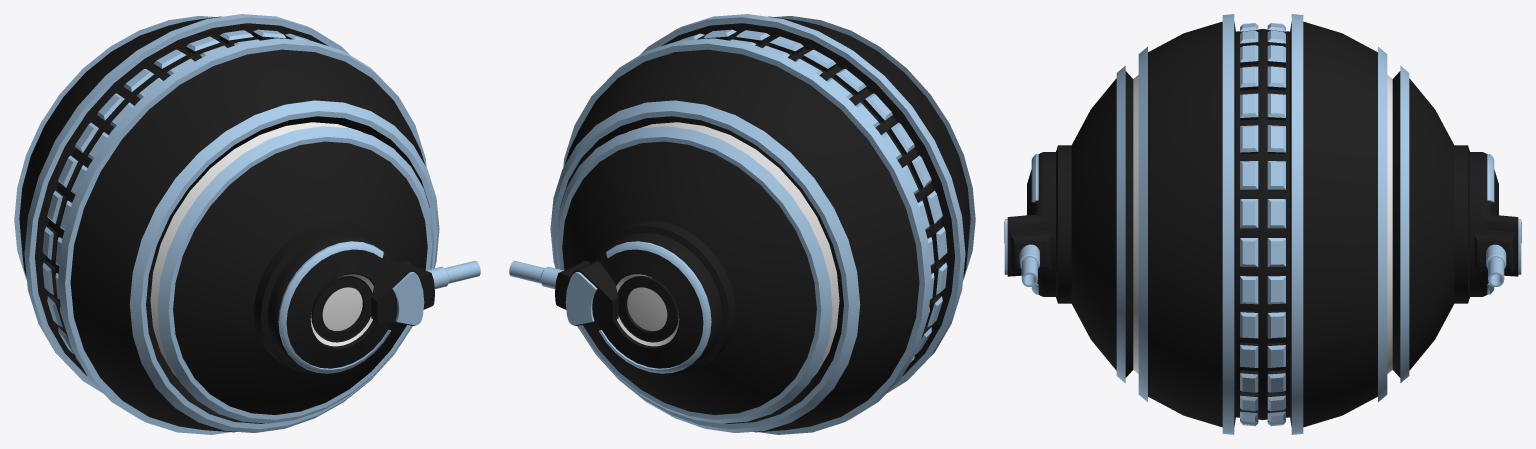
Rendered from enemy_roller 1.fbx.
3 views of the same model, side by side, from view 1: azimuth 30°, elevation 25°; view 2: azimuth 150°, elevation 25°; view 3: azimuth 270°, elevation 25° (orthographic).
Visible parts, largest first — view 1: Sphere, Sphere.001, Circle; view 2: Sphere, Sphere.001, Circle; view 3: Sphere, Sphere.001, Circle.
Part boxes in pixels (<box>): Sphere: <box>14,14,439,434</box>; Sphere.001: <box>267,232,434,373</box>; Circle: <box>426,260,480,289</box>; Sphere: <box>550,14,975,434</box>; Sphere.001: <box>555,232,722,373</box>; Circle: <box>509,260,563,289</box>; Sphere: <box>1056,14,1469,434</box>; Sphere.001: <box>1004,152,1521,296</box>; Circle: <box>1019,244,1506,286</box>.
Size of the model in its own units: 203 by 203 by 250.
